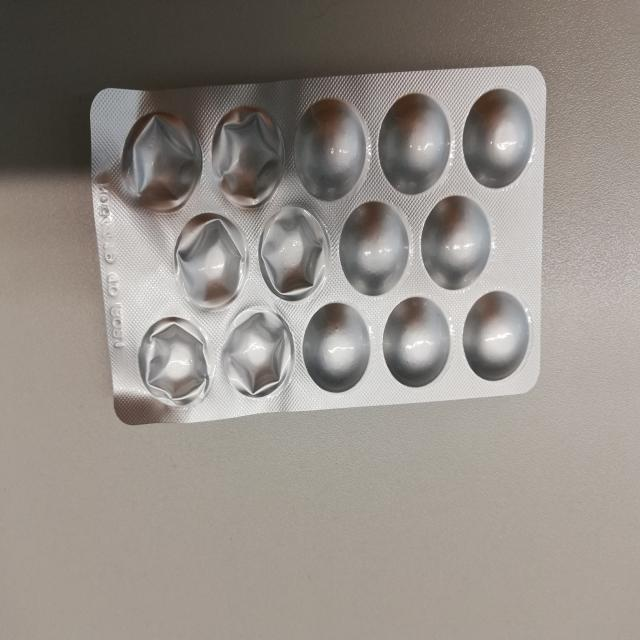Empty: (120, 108, 203, 215), (208, 102, 289, 209), (137, 314, 214, 411), (173, 214, 249, 312), (220, 309, 294, 401), (259, 208, 331, 301)
Pill: (292, 93, 368, 201), (376, 90, 452, 196), (462, 85, 535, 192), (420, 195, 493, 292), (338, 201, 412, 296), (380, 295, 452, 388), (301, 302, 373, 395), (462, 290, 531, 384)
